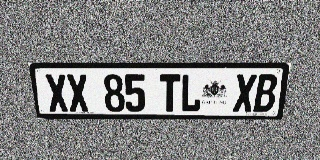5: (124, 74, 146, 112)
8: (103, 74, 125, 112)
B: (253, 74, 278, 112)
L: (180, 74, 202, 112)
T: (160, 74, 181, 112)
X: (44, 74, 69, 112), (66, 74, 90, 112), (233, 74, 257, 112)
